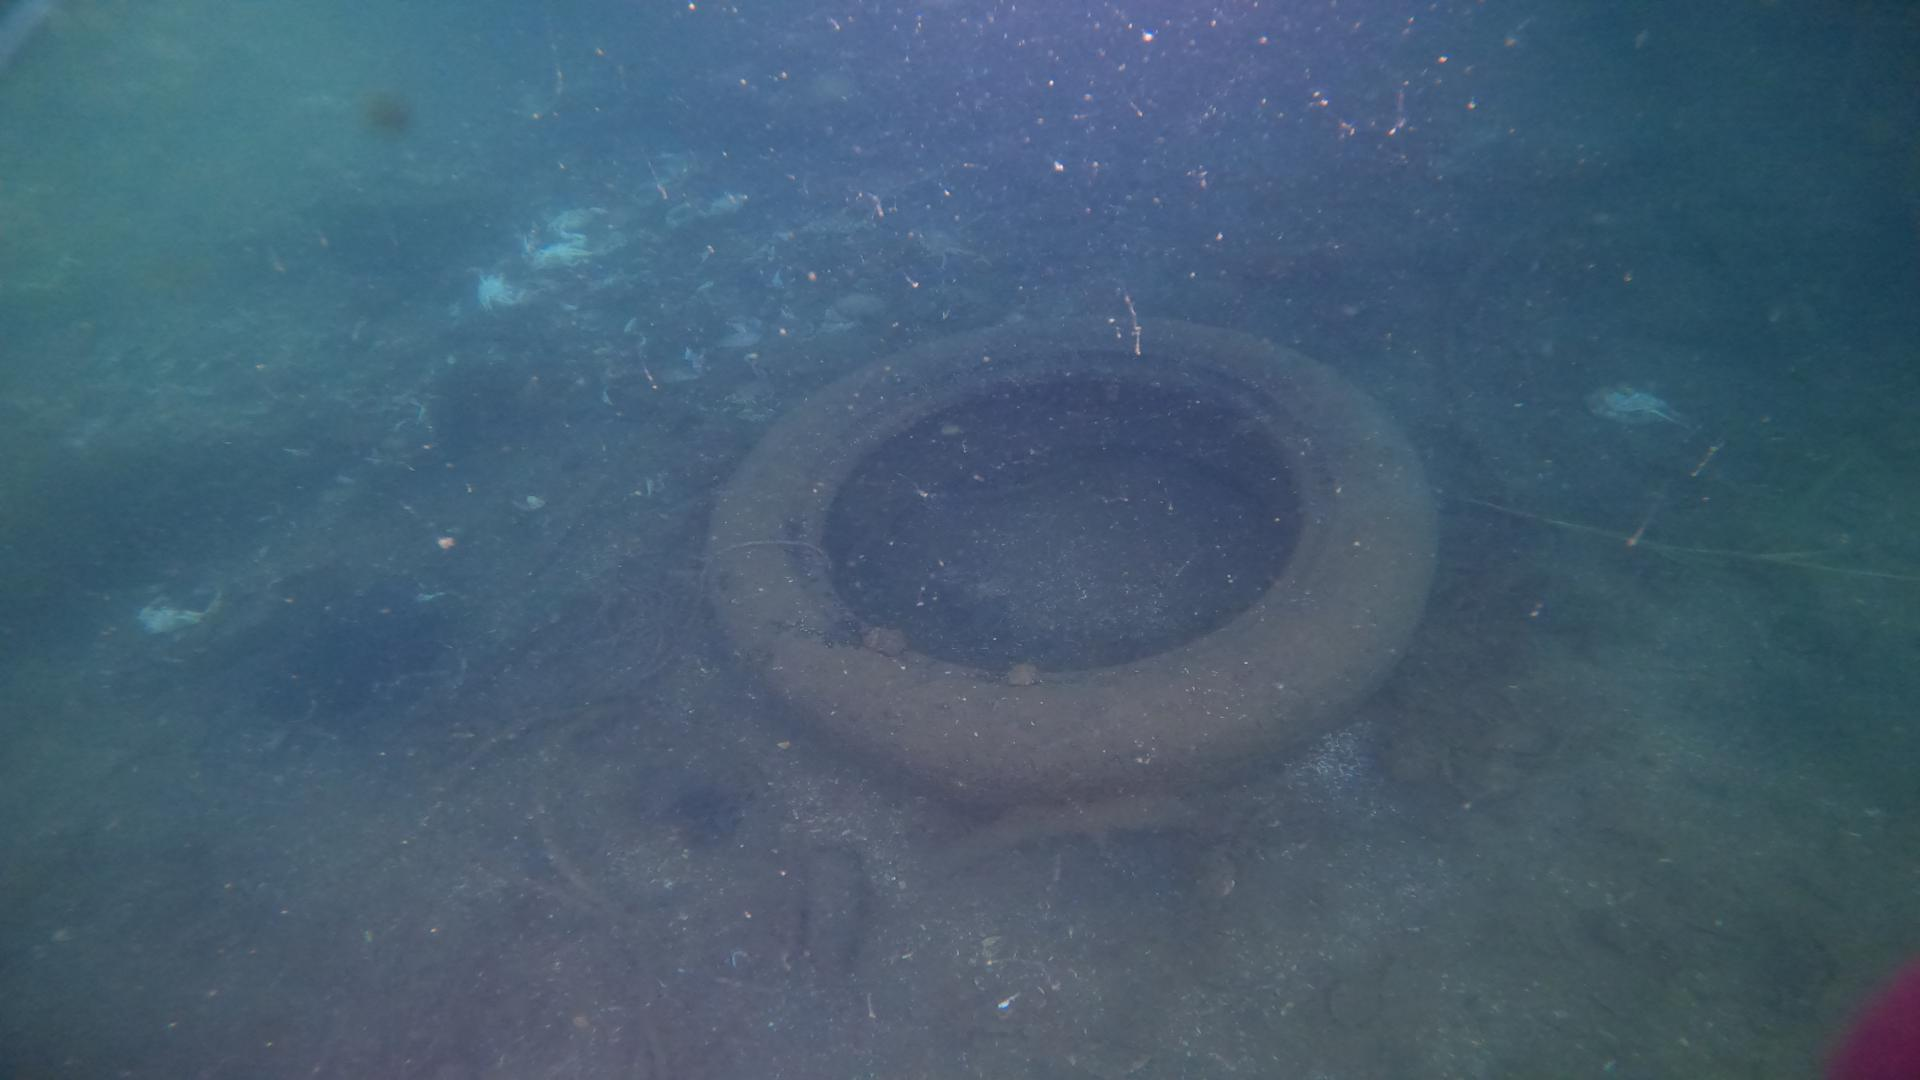tire: (700, 310, 1439, 804)
